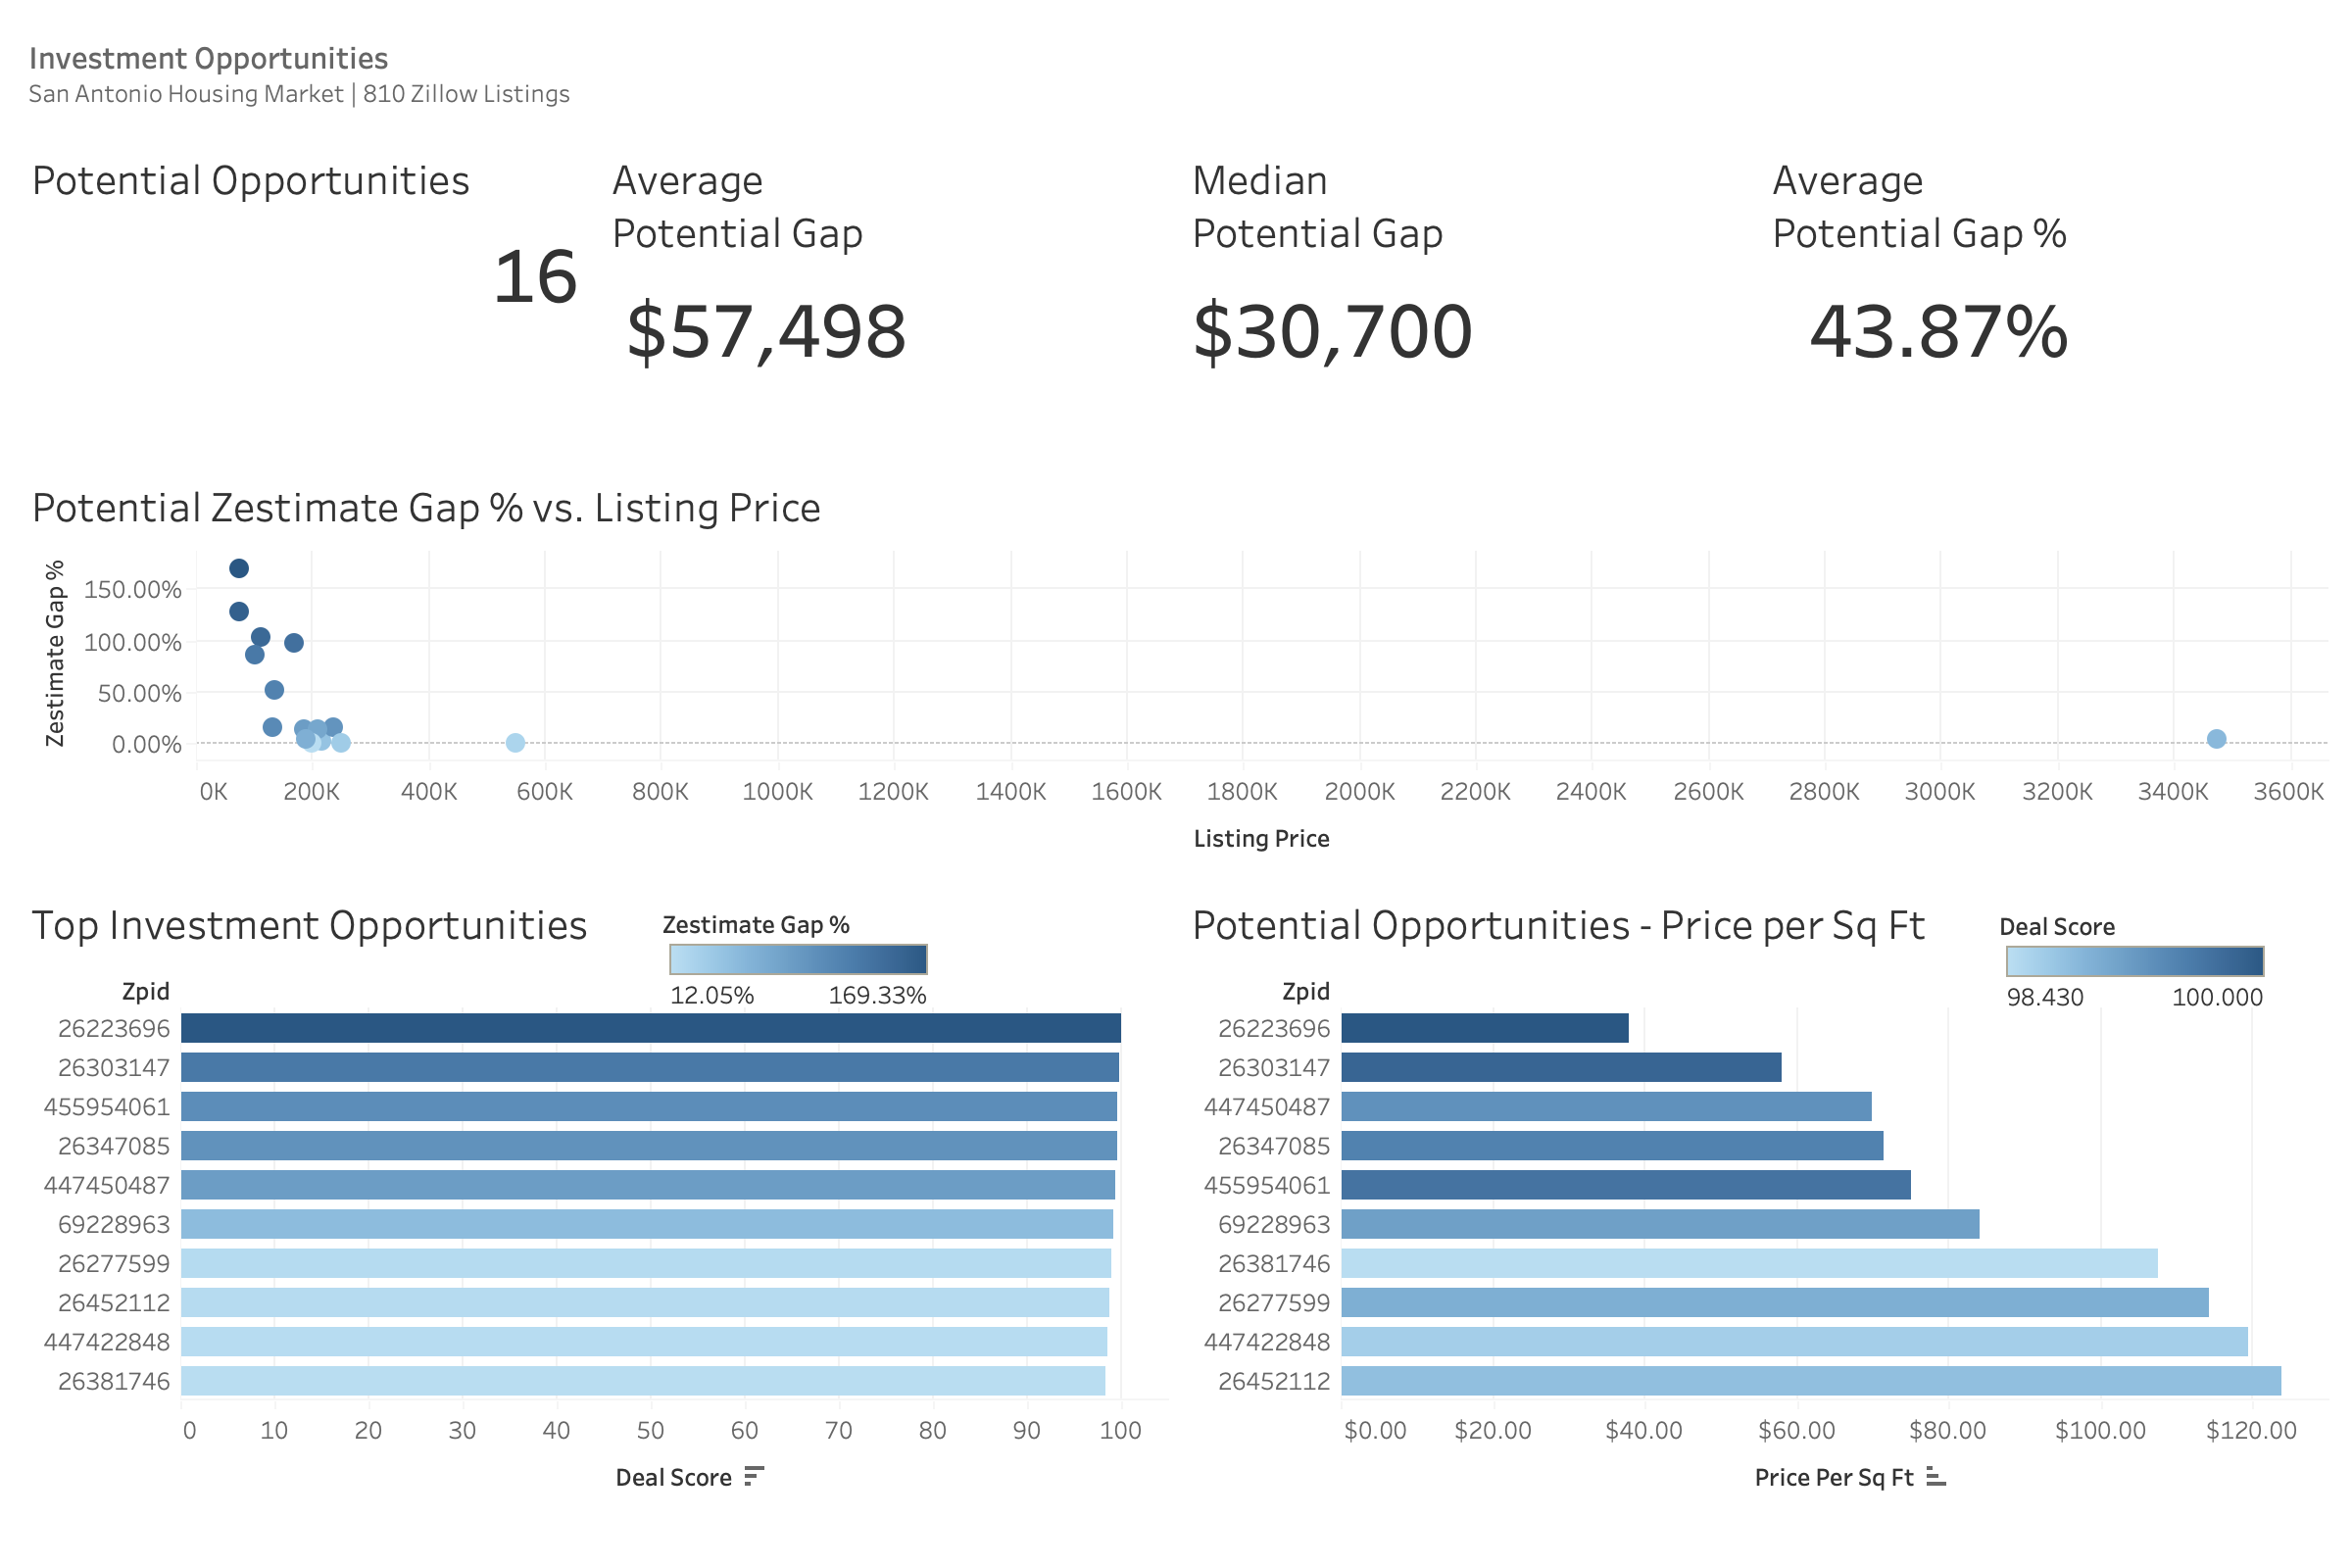

Layout of this report page (visuals, bound fields, positions):
{"tool":"tableau","page":{"name":"Dashboard 3 — Investment Opportunity","canvas":[1200,800],"ordinal":2},"visuals":[{"type":"text","box":[8,8,1184,59]},{"type":"worksheet","title":"KPI — Potential Opportunities","mark":"Automatic","box":[8,67,296,167]},{"type":"worksheet","title":"KPI – Average Potential Gap","mark":"Automatic","box":[304,67,296,167]},{"type":"worksheet","title":"KPI – Median Potential Gap","mark":"Automatic","box":[600,67,296,167]},{"type":"worksheet","title":"KPI – Average Potential Gap %","mark":"Automatic","box":[896,67,296,167]},{"type":"worksheet","title":"Potential Gap % vs. Listing Price","mark":"Circle","rows":["Calculation_3420073227845634"],"cols":["price"],"box":[8,234,1184,213]},{"type":"worksheet","title":"Top Investment Opportunities","mark":"Automatic","rows":["zpid"],"cols":["deal_score"],"box":[8,447,592,345]},{"type":"worksheet","title":"Opportunity Price per Sq Ft","mark":"Automatic","rows":["zpid"],"cols":["price_per_sqft"],"box":[600,447,592,345]},{"type":"legend","title":"Top Investment Opportunities","param":"[federated.1wcei441pjk01j16judub0aemmar].[avg:Calculation_3420073227845634:qk]","box":[338,459,140,76]},{"type":"legend","title":"Opportunity Price per Sq Ft","param":"[federated.1wcei441pjk01j16judub0aemmar].[avg:deal_score:qk]","box":[1020,460,140,76]}]}

Visuals, with their boxes in screenshot pixels (x1, y1, x2, y2), scaled from the page's 1200x800 canvas onto the 2352x1568 screenshot:
text: {"left": 16, "top": 16, "right": 2336, "bottom": 131}
"KPI — Potential Opportunities" worksheet: {"left": 16, "top": 131, "right": 596, "bottom": 459}
"KPI – Average Potential Gap" worksheet: {"left": 596, "top": 131, "right": 1176, "bottom": 459}
"KPI – Median Potential Gap" worksheet: {"left": 1176, "top": 131, "right": 1756, "bottom": 459}
"KPI – Average Potential Gap %" worksheet: {"left": 1756, "top": 131, "right": 2336, "bottom": 459}
"Potential Gap % vs. Listing Price" worksheet (Circle marks): {"left": 16, "top": 459, "right": 2336, "bottom": 876}
"Top Investment Opportunities" worksheet: {"left": 16, "top": 876, "right": 1176, "bottom": 1552}
"Opportunity Price per Sq Ft" worksheet: {"left": 1176, "top": 876, "right": 2336, "bottom": 1552}
"Top Investment Opportunities" legend: {"left": 662, "top": 900, "right": 937, "bottom": 1049}
"Opportunity Price per Sq Ft" legend: {"left": 1999, "top": 902, "right": 2274, "bottom": 1051}
